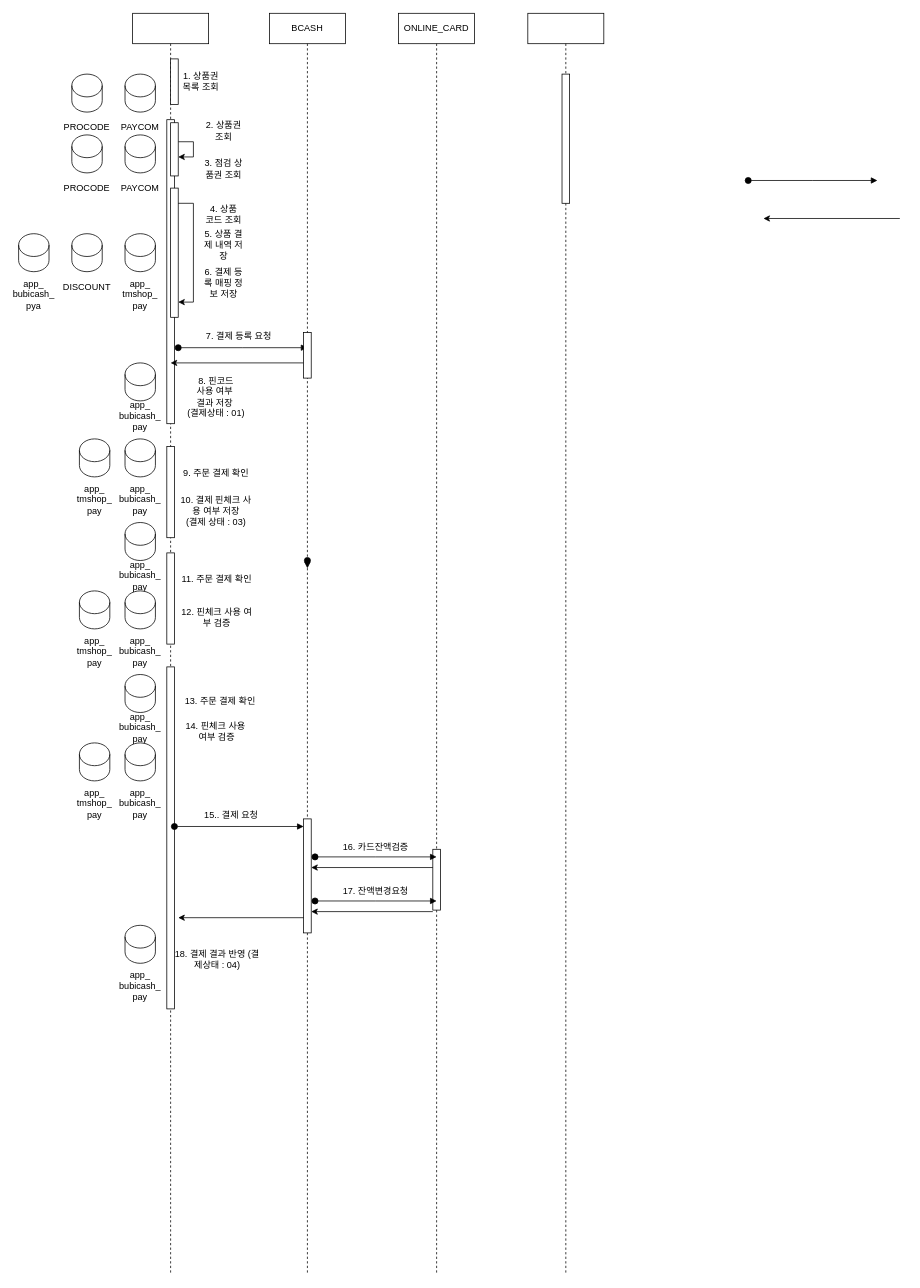
Some shapes in this 920 by 1288 pixel diagram are drawn without their labels. The box of each missing label's shape, as (x1, y1, x2, y2) in pixels:
CP: (527, 13, 604, 1275)
PAYSHOP: (132, 13, 209, 1275)
